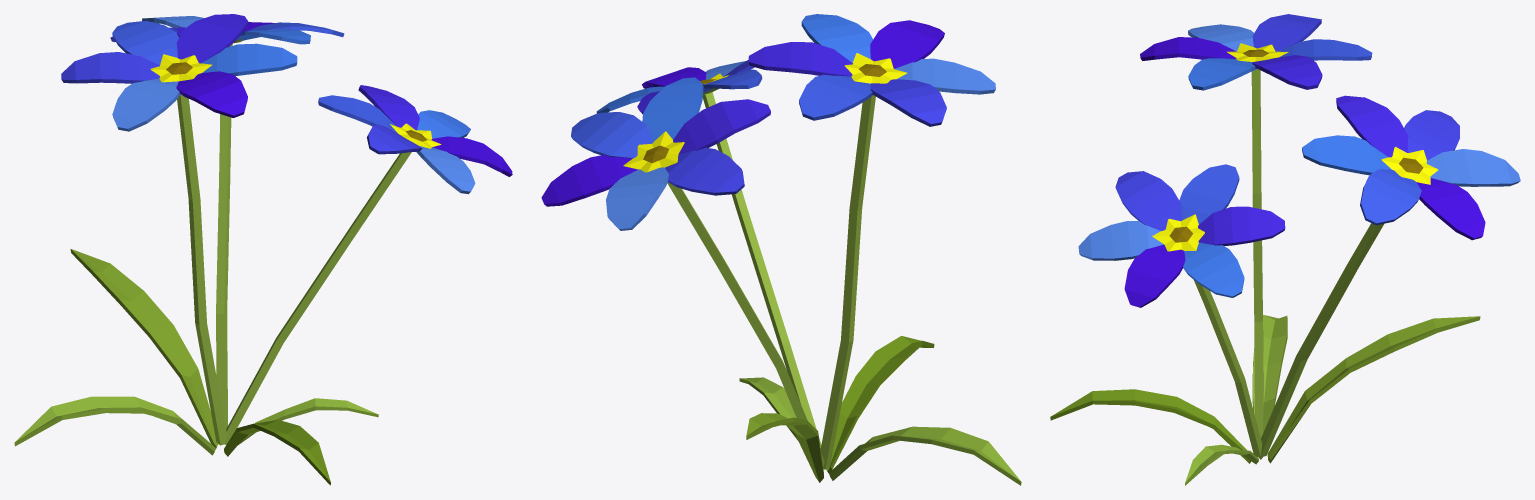
File: Flower_03b.fbx
3 renders of one model, left to right at view 1: azimuth 30°, elevation 25°; view 2: azimuth 150°, elevation 25°; view 3: azimuth 270°, elevation 25°, orthographic. The views are drawn at different scales.
Parts seen in each view (by area): view 1: Flower_03b; view 2: Flower_03b; view 3: Flower_03b.
Boxes of the visible parts, x1,y1,x2,y2 form: Flower_03b: (14, 14, 512, 485); Flower_03b: (541, 14, 1021, 485); Flower_03b: (1050, 14, 1520, 485).
Bounding box in the file's own units: 0.8008 × 0.7398 × 0.7792.
